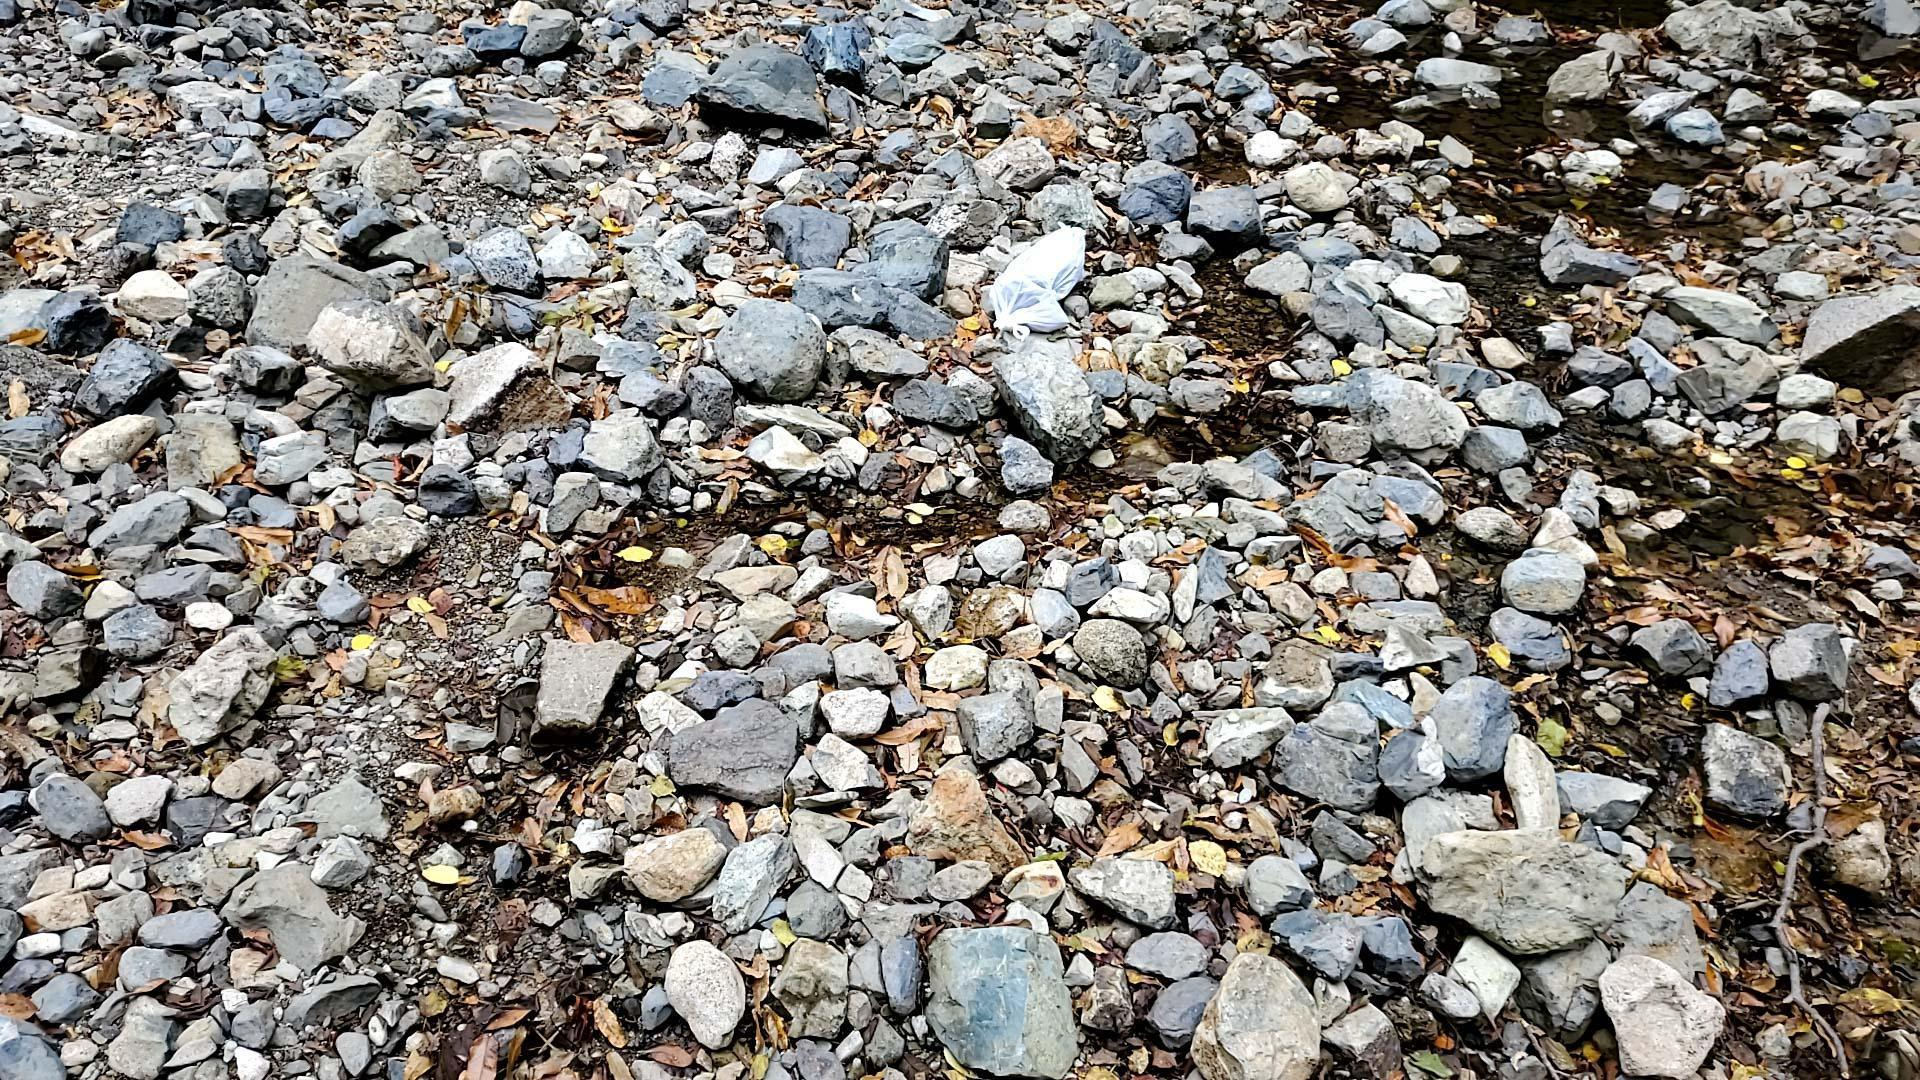white_bag: (982, 218, 1091, 343)
